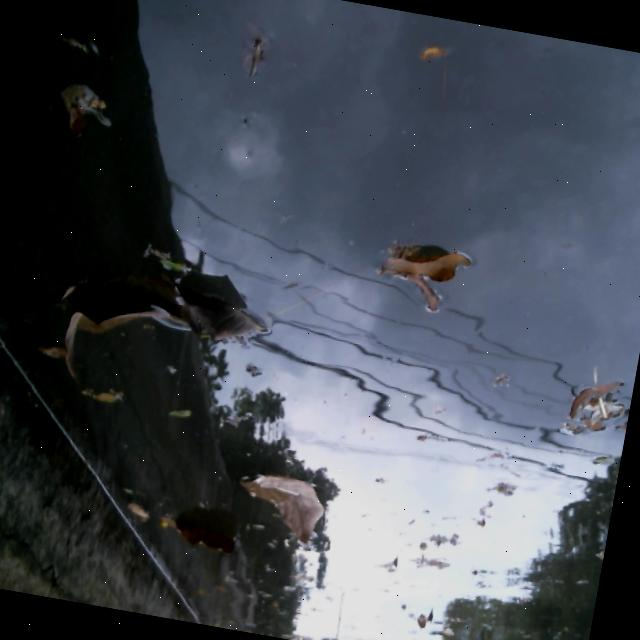Big-leaf: (51, 278, 185, 390), (226, 455, 337, 549), (168, 282, 272, 353), (375, 230, 468, 286), (154, 505, 237, 558)
Small-leaf: (56, 73, 119, 145), (563, 365, 622, 421), (388, 264, 443, 317), (232, 12, 274, 81), (78, 377, 127, 411), (414, 36, 459, 71), (118, 485, 154, 525), (160, 398, 195, 424), (410, 601, 437, 632)
